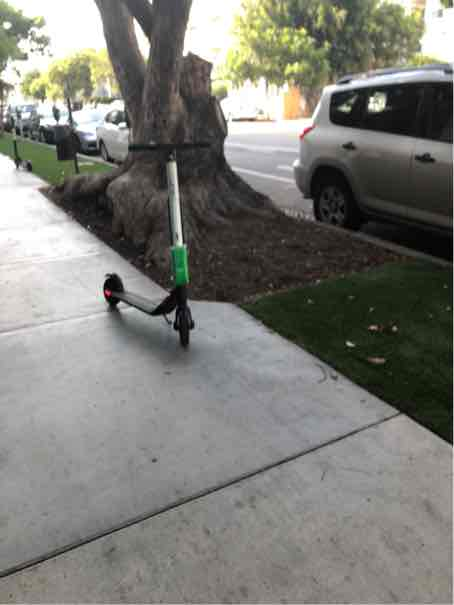scooter: (98, 148, 200, 370)
